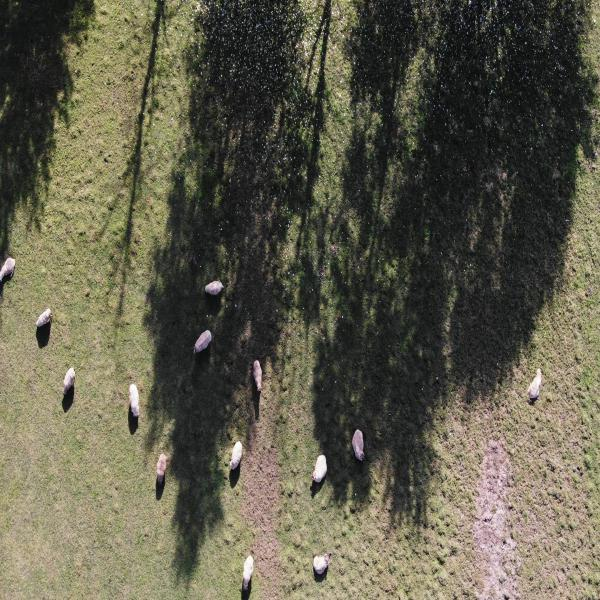sheep: (249, 352, 270, 402), (240, 548, 263, 593), (150, 452, 177, 487), (526, 363, 550, 402), (203, 270, 226, 310), (60, 364, 84, 398), (226, 437, 245, 477), (307, 449, 330, 482), (350, 426, 368, 466), (29, 303, 52, 334), (312, 548, 335, 578), (126, 381, 142, 420), (193, 329, 215, 357), (0, 260, 14, 286)
